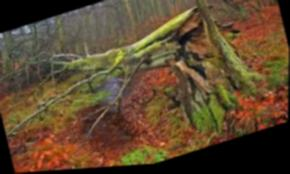Downstairs: (0, 0, 274, 174)
